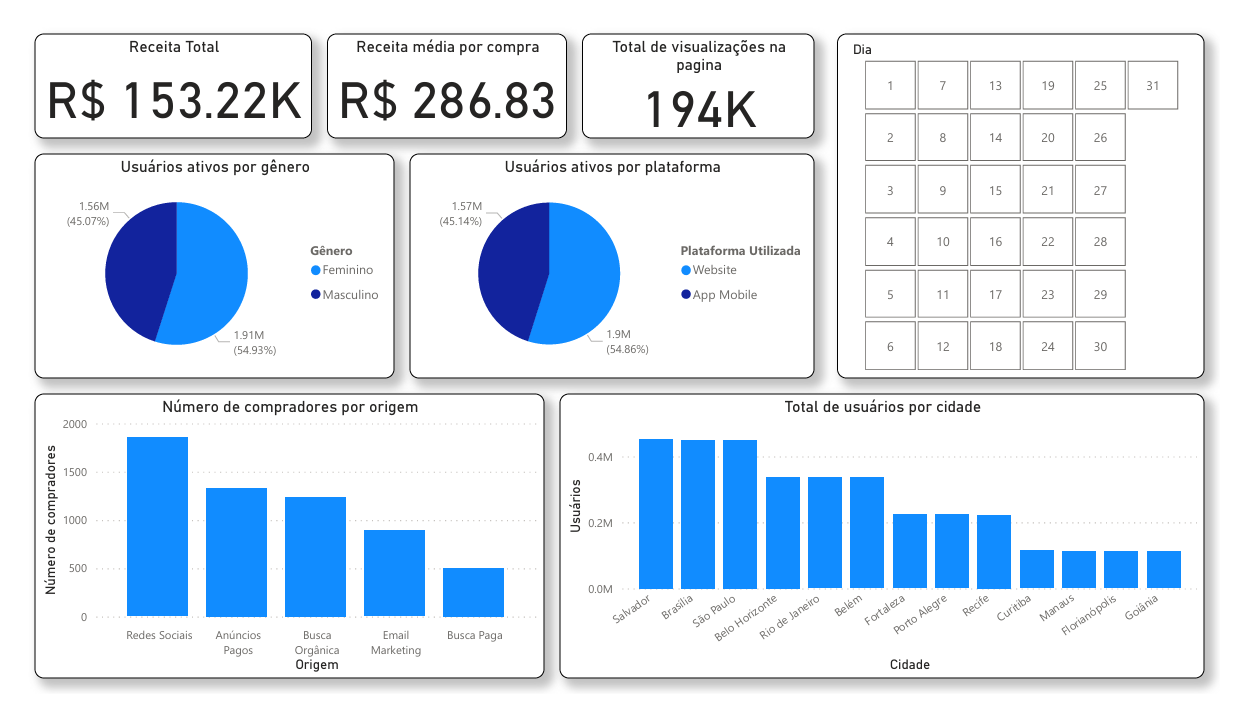

This screenshot's page, from the dashboard's own definition file:
{"tool":"powerbi","page":{"name":"Página 1","canvas":[1280,720],"ordinal":0},"visuals":[{"type":"card","title":"Receita Total","fields":{"Values":["Sum(Planilha1.Receita Total)"]},"box":[16,16,296,112],"z":0},{"type":"card","title":"Receita média por compra","fields":{"Values":["Sum(Planilha1.Receita Média por Compra)"]},"box":[336,16,256,112],"z":1000},{"type":"card","title":"Total de visualizações na pagina","fields":{"Values":["Sum(Planilha1.Visualizações na Página)"]},"box":[600,16,248,112],"z":2000},{"type":"pieChart","title":"Usuários ativos por gênero","fields":{"Y":["Sum(Planilha1.Usuários Ativos)"],"Category":["Planilha1.Gênero"]},"box":[16,144,384,240],"z":3000},{"type":"pieChart","title":"Usuários ativos por plataforma","fields":{"Y":["Sum(Planilha1.Usuários Ativos)"],"Category":["Planilha1.Plataforma Utilizada"]},"box":[416,144,432,240],"z":4000},{"type":"columnChart","title":"Número de compradores por origem","fields":{"Y":["Sum(Planilha1.Número de Compradores)"],"Category":["Planilha1.Origem"]},"box":[16,400,544,304],"z":5000},{"type":"columnChart","title":"Total de usuários por cidade","fields":{"Y":["Sum(Planilha1.Usuários Total)"],"Category":["Planilha1.Cidade"]},"box":[576,400,688,304],"z":6000},{"type":"slicer","fields":{"Values":["Planilha1.Data.Variation.Hierarquia de datas.Dia"]},"box":[872,16,392,368],"z":7000}]}

Visuals, with their boxes in screenshot pixels (x1, y1, x2, y2), scaled from the page's 1280x720 canvas onto the 1242x714 screenshot:
"Receita Total" card: 16, 16, 303, 127
"Receita média por compra" card: 326, 16, 574, 127
"Total de visualizações na pagina" card: 582, 16, 823, 127
"Usuários ativos por gênero" pieChart: 16, 143, 388, 381
"Usuários ativos por plataforma" pieChart: 404, 143, 823, 381
"Número de compradores por origem" columnChart: 16, 397, 543, 698
"Total de usuários por cidade" columnChart: 559, 397, 1226, 698
slicer - Planilha1.Data.Variation.Hierarquia de datas.Dia: 846, 16, 1226, 381
